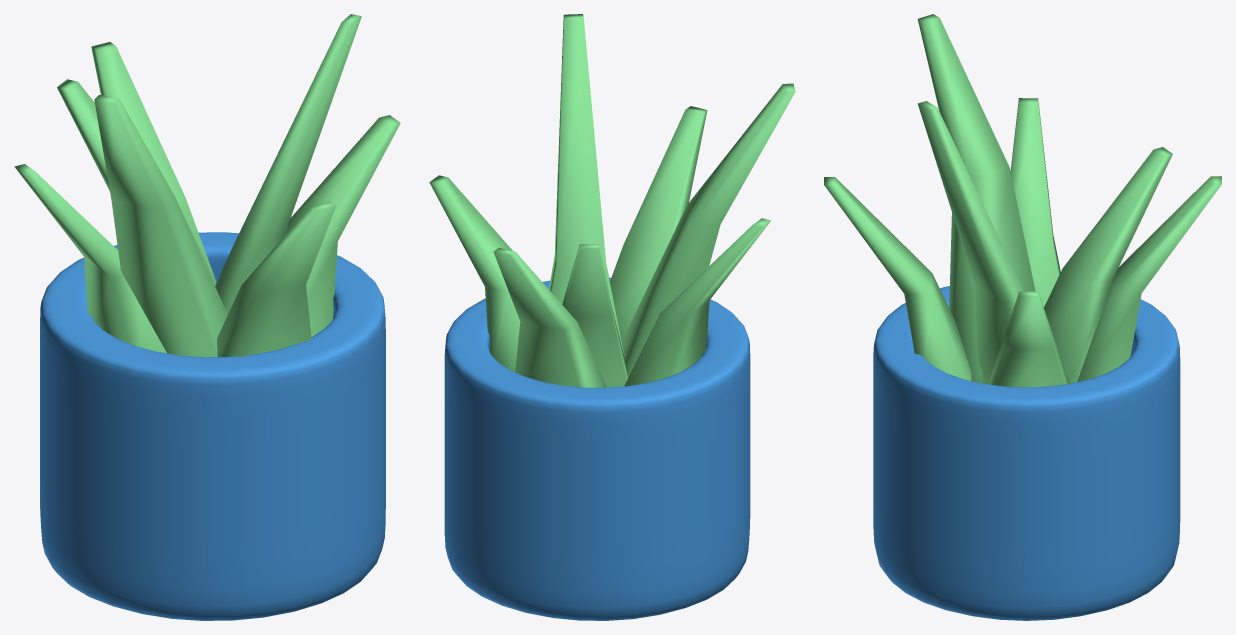
The picture shows the model from 3 angles, left to right: view 1: azimuth 30°, elevation 25°; view 2: azimuth 150°, elevation 25°; view 3: azimuth 270°, elevation 25°; orthographic projection. The views are drawn at different scales.
Parts seen in each view (by area): view 1: Cylinder, Cube.017; view 2: Cylinder, Cube.017; view 3: Cylinder, Cube.017.
Part boxes in pixels (x1,y1,x2,y2): Cylinder: [40, 232, 385, 620]; Cube.017: [14, 14, 400, 357]; Cylinder: [444, 277, 750, 620]; Cube.017: [429, 14, 795, 387]; Cylinder: [873, 286, 1180, 620]; Cube.017: [824, 14, 1221, 387].
Bounding box in the file's own units: 0.2455 × 0.3491 × 0.2542.
